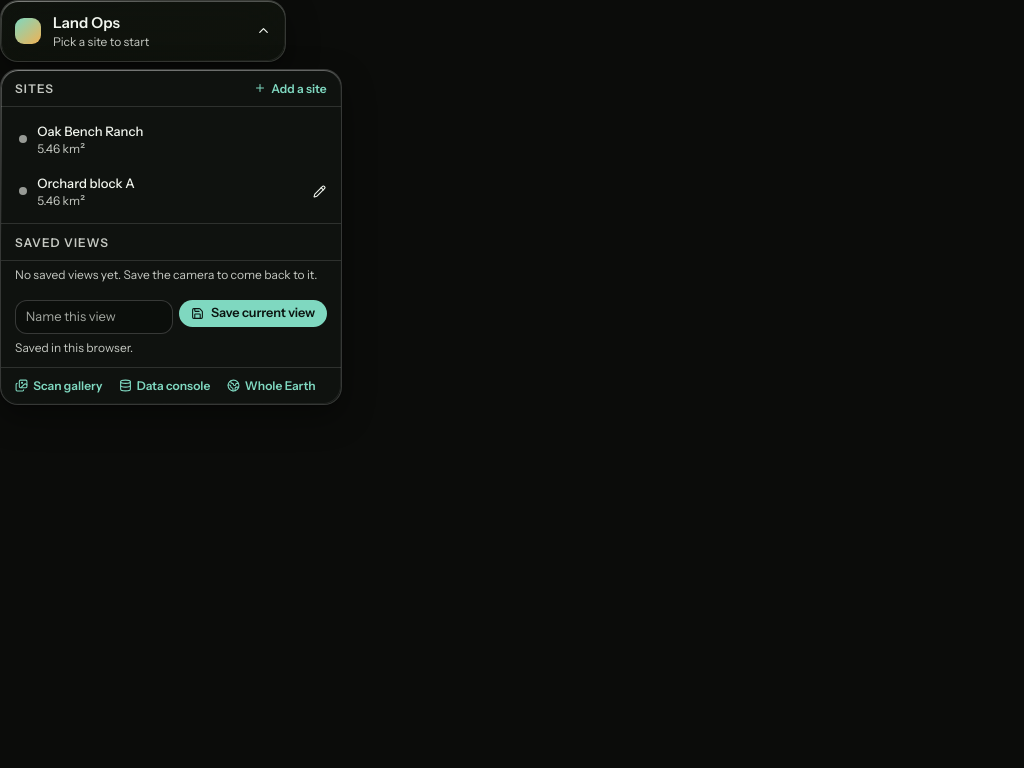
Test: renaming a site in the switcher › says so when the rename fails for another reason
Check: the text "Orchard block A" is shown, box x1=37 y1=175 x2=135 y2=191
Step 1. Click the button named "Rename Orchard block A" → (319, 191), box x1=306 y1=177 x2=333 y2=205
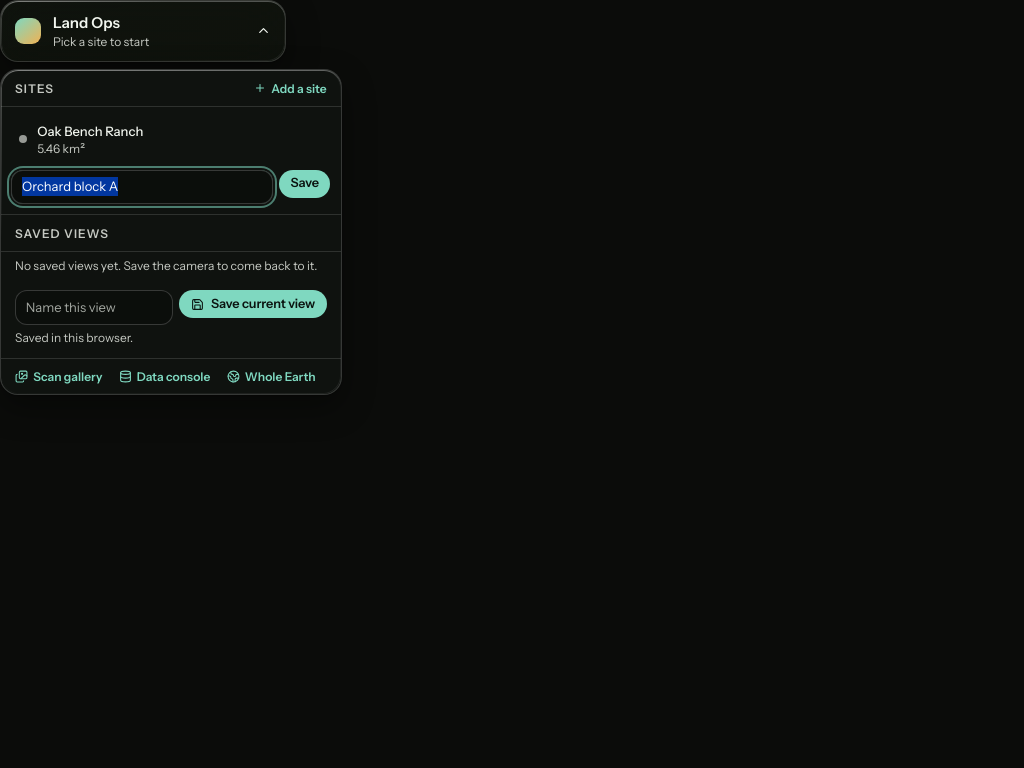
Step 2. Type "x" into the field named "New name" → (142, 187), box x1=11 y1=170 x2=273 y2=204
Then press Enter
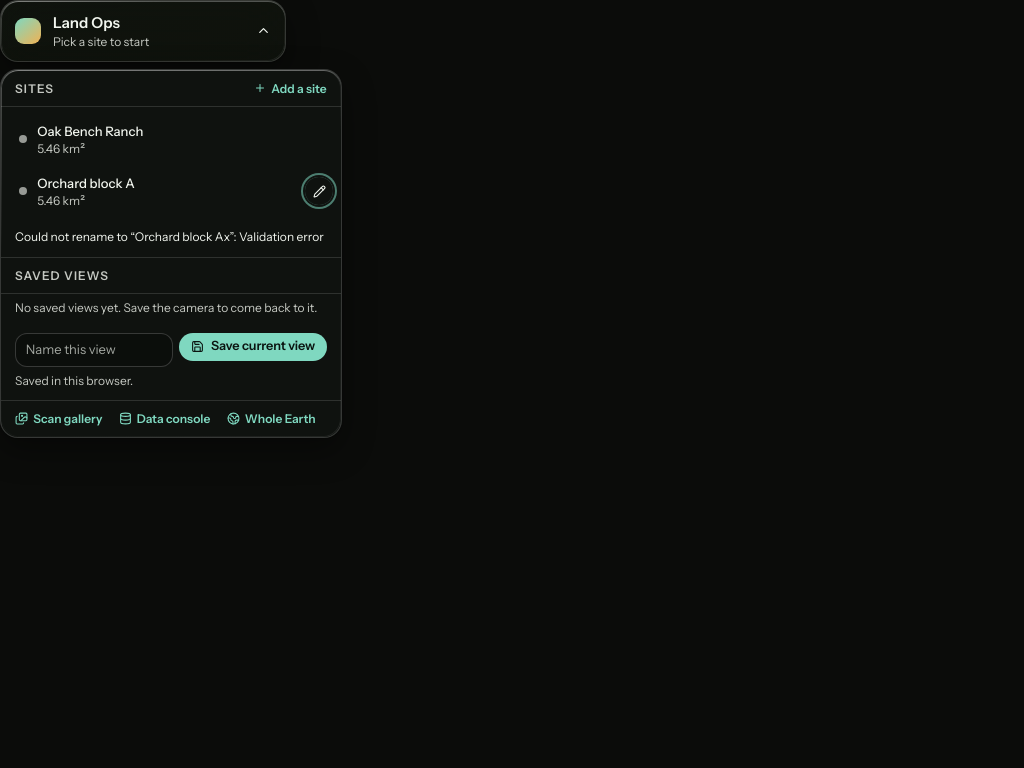
Check: the message reads "Could not rename to “Orchard block Ax”: Validation error", box x1=15 y1=229 x2=324 y2=244
